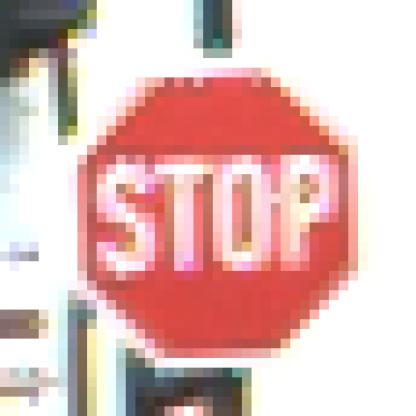stop: (42, 64, 379, 359)
